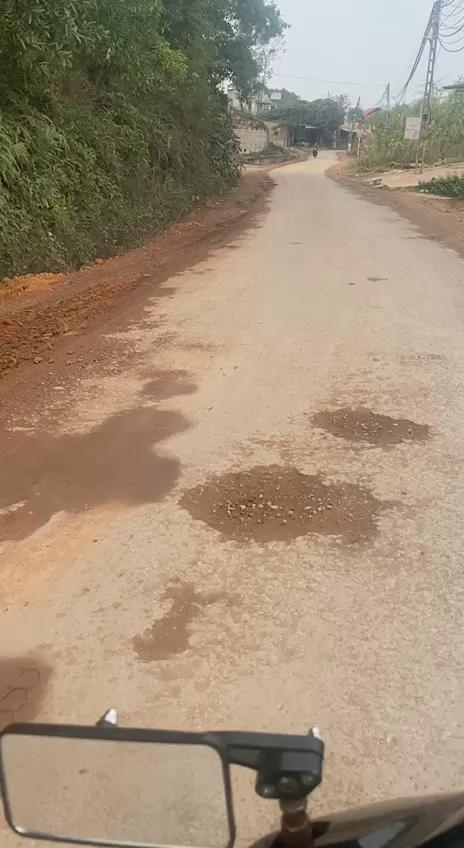pothole: (183, 460, 391, 546), (132, 584, 228, 666), (313, 404, 432, 453)
